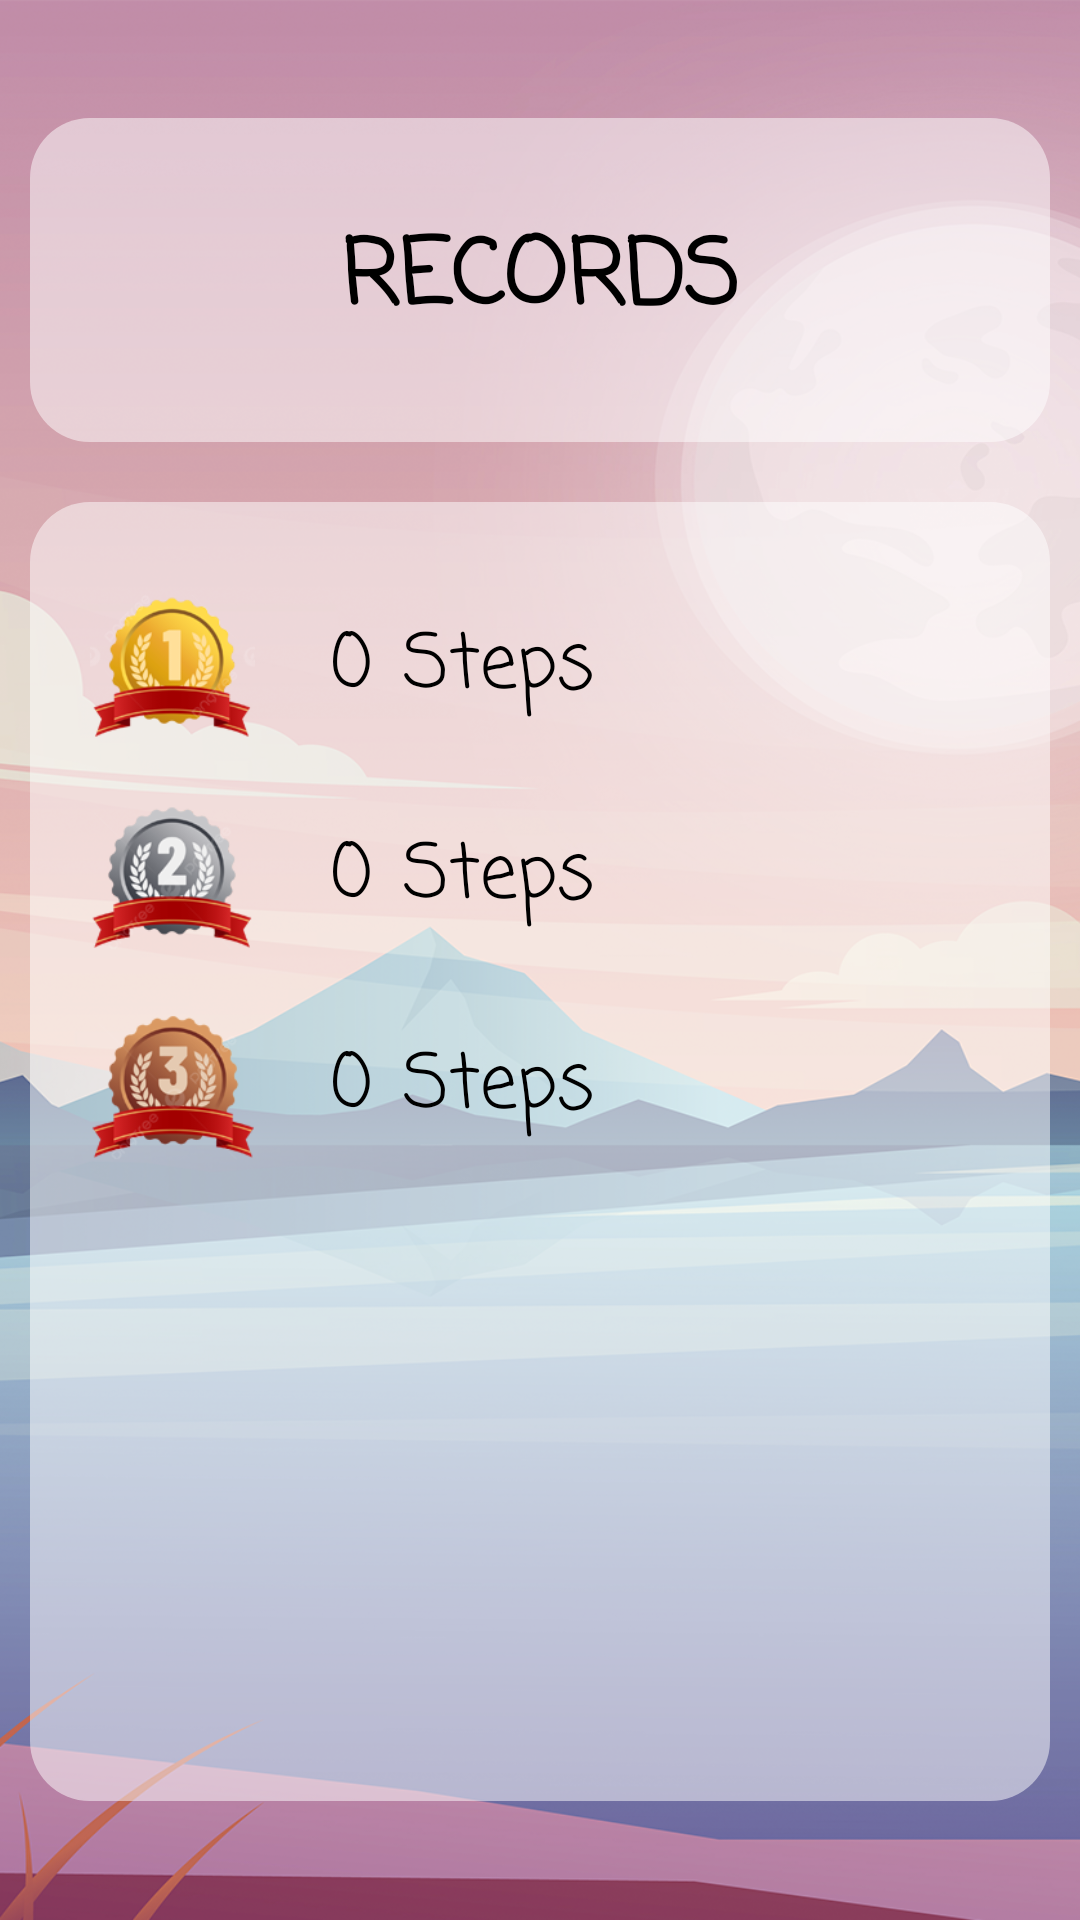

Screen size 1080w x 1920h. Icon name, then its center in pixels as (x,y):
first place: (170,684)
second place: (172,878)
third place: (172,1087)
